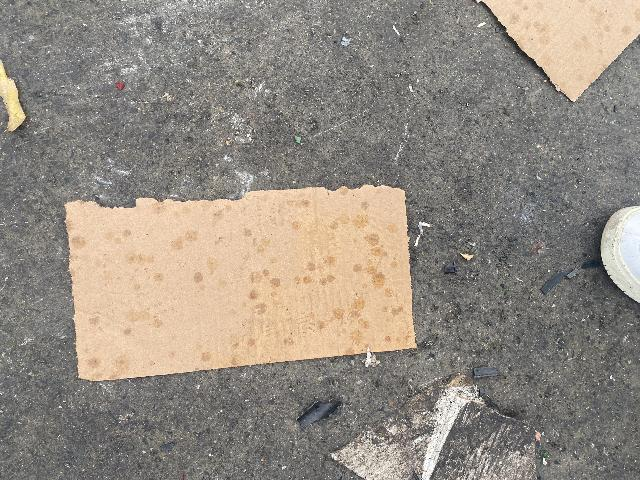Kagit: (63, 184, 418, 382), (327, 374, 539, 480), (475, 0, 640, 103)
